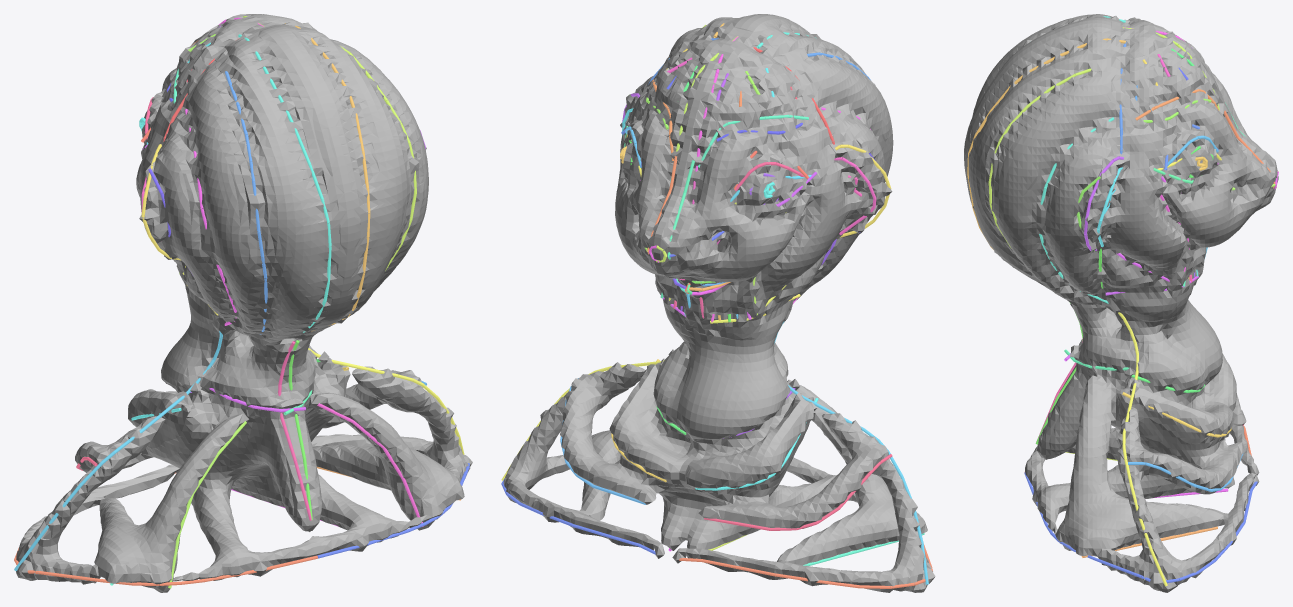
File: author1_bust.gltf
3 views of the same model, side by side, from view 1: azimuth 30°, elevation 25°; view 2: azimuth 150°, elevation 25°; view 3: azimuth 270°, elevation 25° (orthographic). The views are drawn at different scales.
Bounding box in the file's own units: 0.6252 × 0.6932 × 0.4164.
